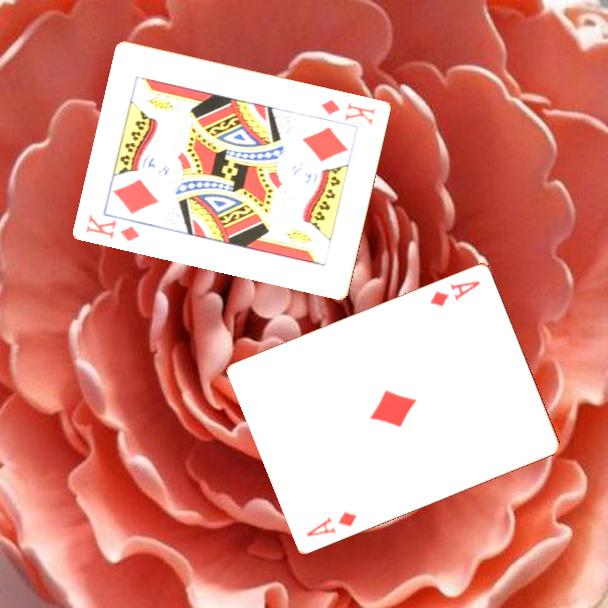d01: (426, 277, 483, 309), (303, 507, 360, 539)
d13: (83, 210, 143, 244), (318, 96, 379, 128)
